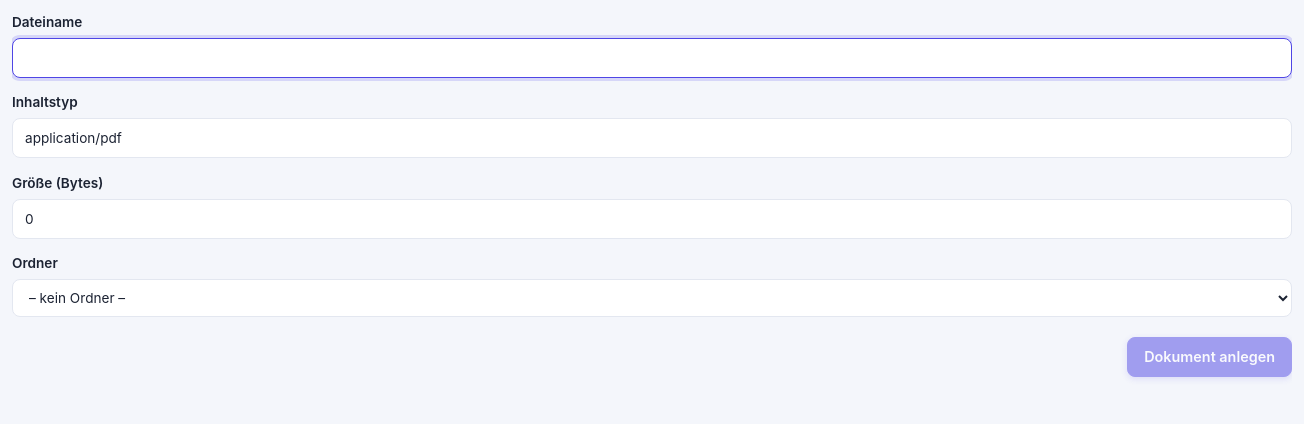
Test case: DocumentCreateForm › deaktiviert den Button bei leerem Dateinamen oder ungültiger Größe
Check: the button "Dokument anlegen" is disabled, box [1127,337,1292,377]
Type "a.pdf" into the field labelled "Dateiname" at coordinates (652, 58), box [12,38,1292,78]
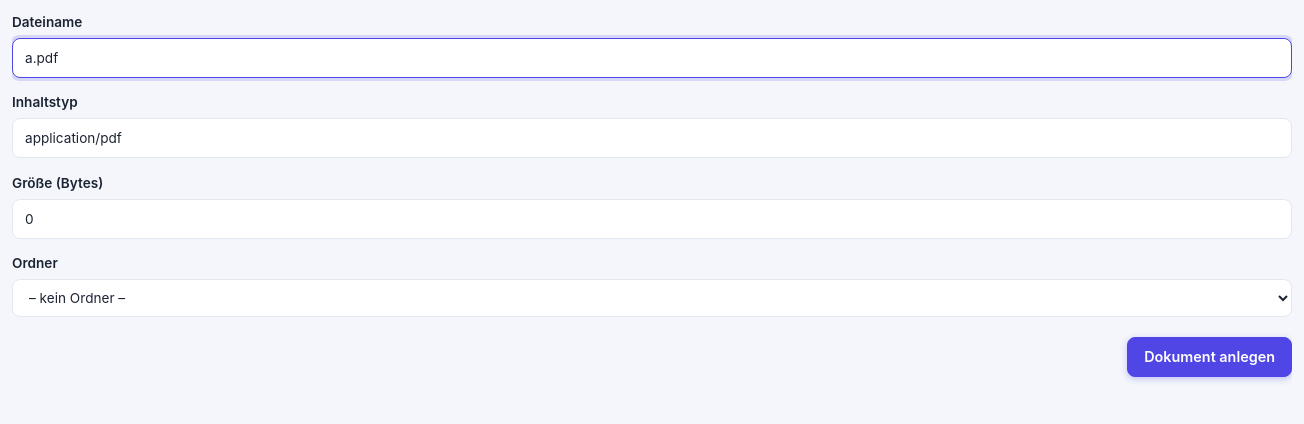
Check: the button "Dokument anlegen" is enabled, box [1127,337,1292,377]
Replace the text in the field labelled "Größe (Bytes)" with "-5" at coordinates (652, 219), box [12,199,1292,239]
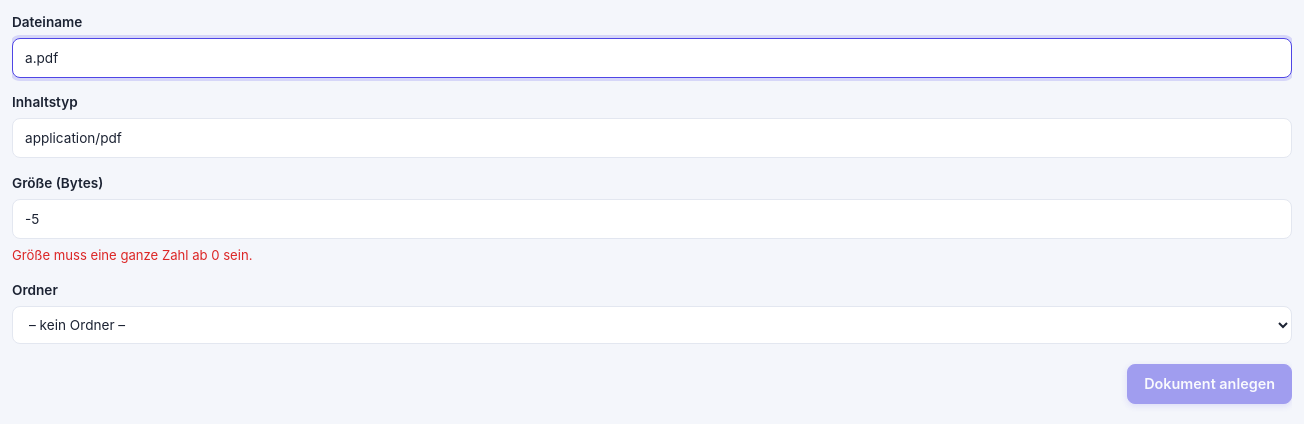
Check: the button "Dokument anlegen" is disabled, box [1127,364,1292,404]
